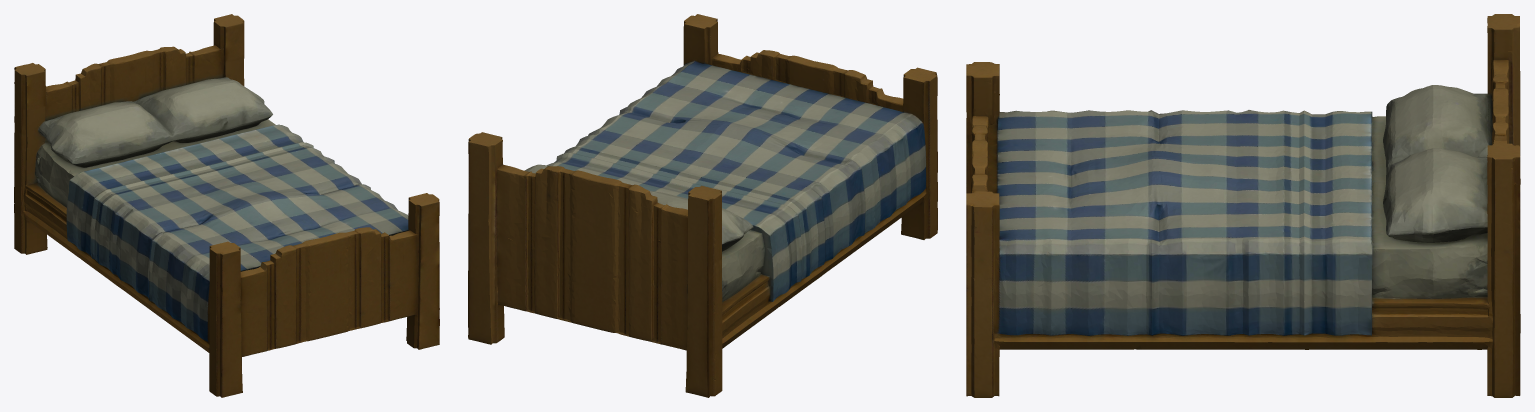
The model's file is wooden+bed+3d+model (1).glb.
3 views of the same model, side by side, from view 1: azimuth 30°, elevation 25°; view 2: azimuth 150°, elevation 25°; view 3: azimuth 270°, elevation 25° (orthographic). The views are drawn at different scales.
Parts seen in each view (by area): view 1: tripo_node_83ca2ea3-6d02-4783-8858-107bdd4f8396; view 2: tripo_node_83ca2ea3-6d02-4783-8858-107bdd4f8396; view 3: tripo_node_83ca2ea3-6d02-4783-8858-107bdd4f8396.
Boxes of the visible parts, box(x1,y1,x2,y2) form: tripo_node_83ca2ea3-6d02-4783-8858-107bdd4f8396: box(14, 14, 439, 397); tripo_node_83ca2ea3-6d02-4783-8858-107bdd4f8396: box(468, 14, 937, 397); tripo_node_83ca2ea3-6d02-4783-8858-107bdd4f8396: box(966, 14, 1520, 397).
Size of the model in its own units: 0.6257 by 0.4744 by 0.998.
1 material, 1 textured.
